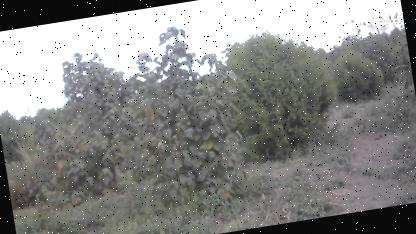tree: (105, 14, 254, 229)
